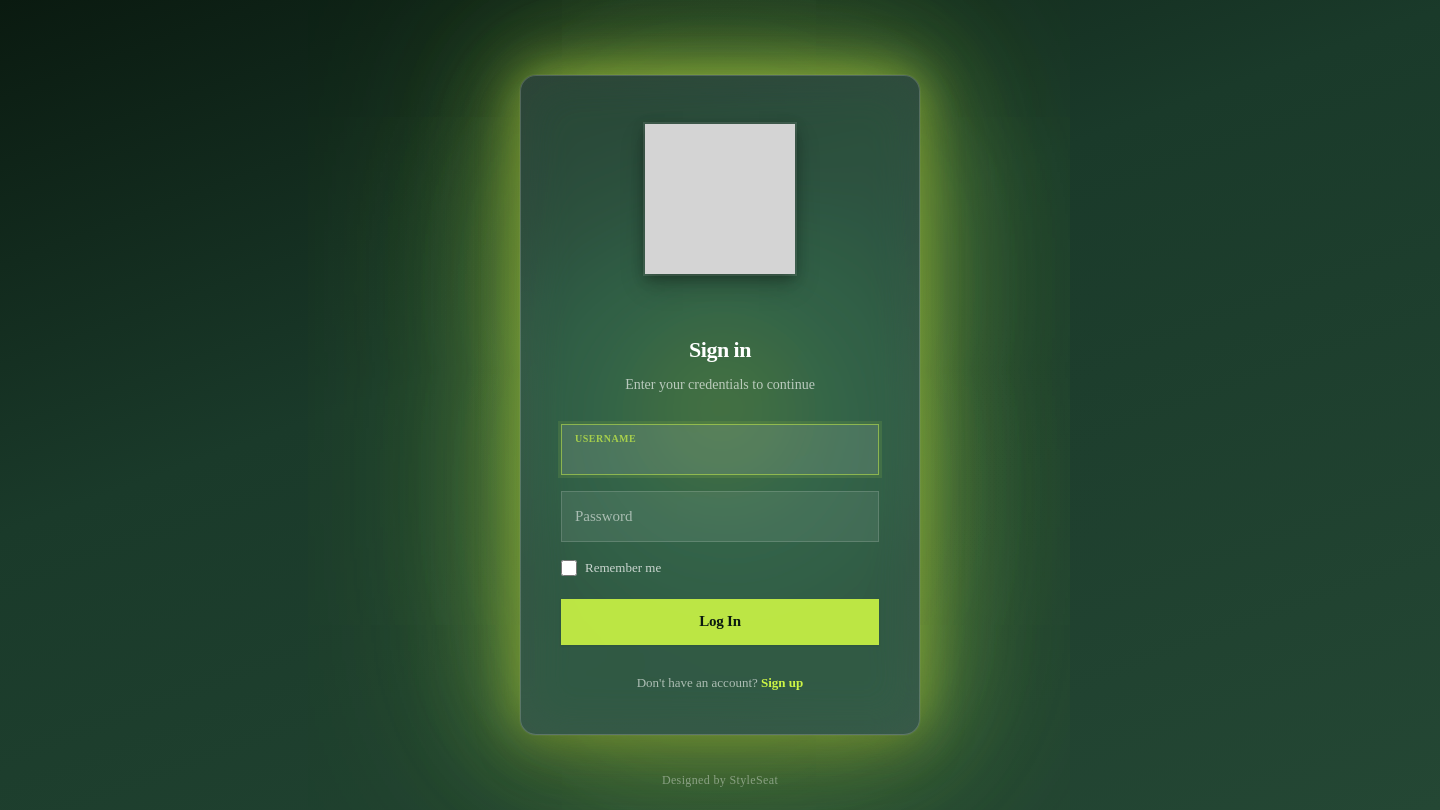
Test: LoginPage › shows loading state while submitting
Type "demo" into the field labelled "Username".
click(720, 450); type("demo")  # box [561,424,879,475]
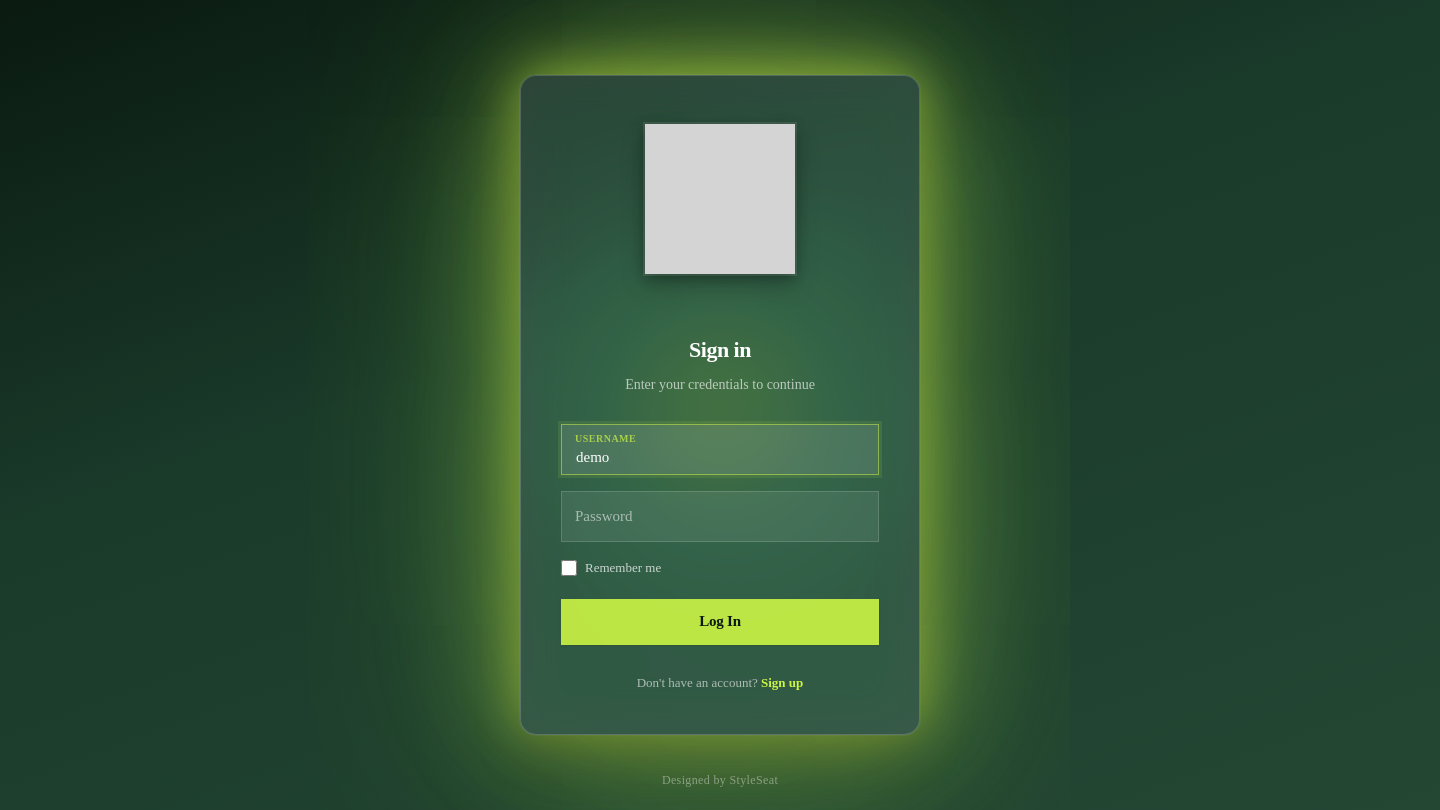
Type "pass" into the password field labelled "Password".
click(720, 516); type("pass")  # box [561,491,879,542]
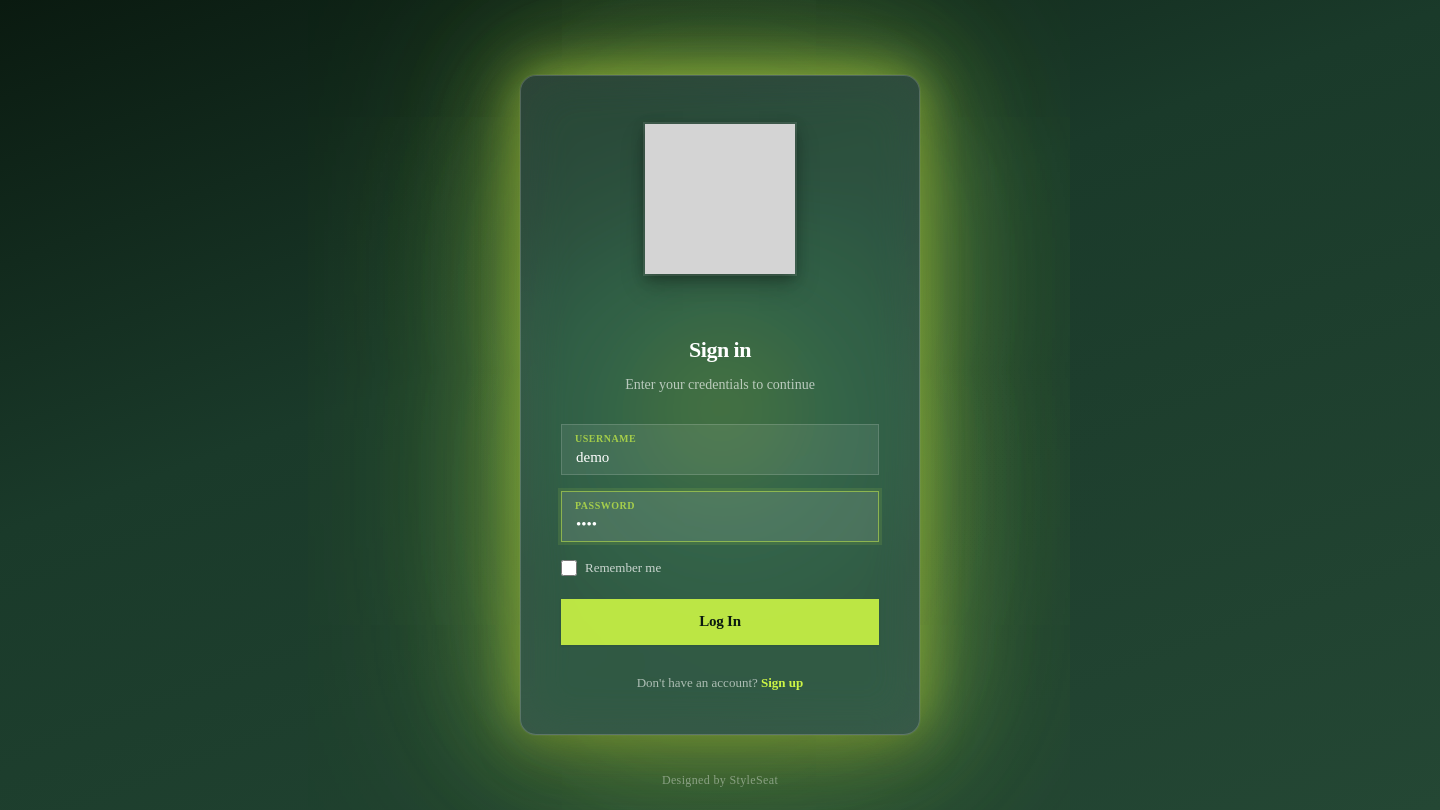
Click the button "Log In".
click(720, 622)  # box [561,599,879,645]
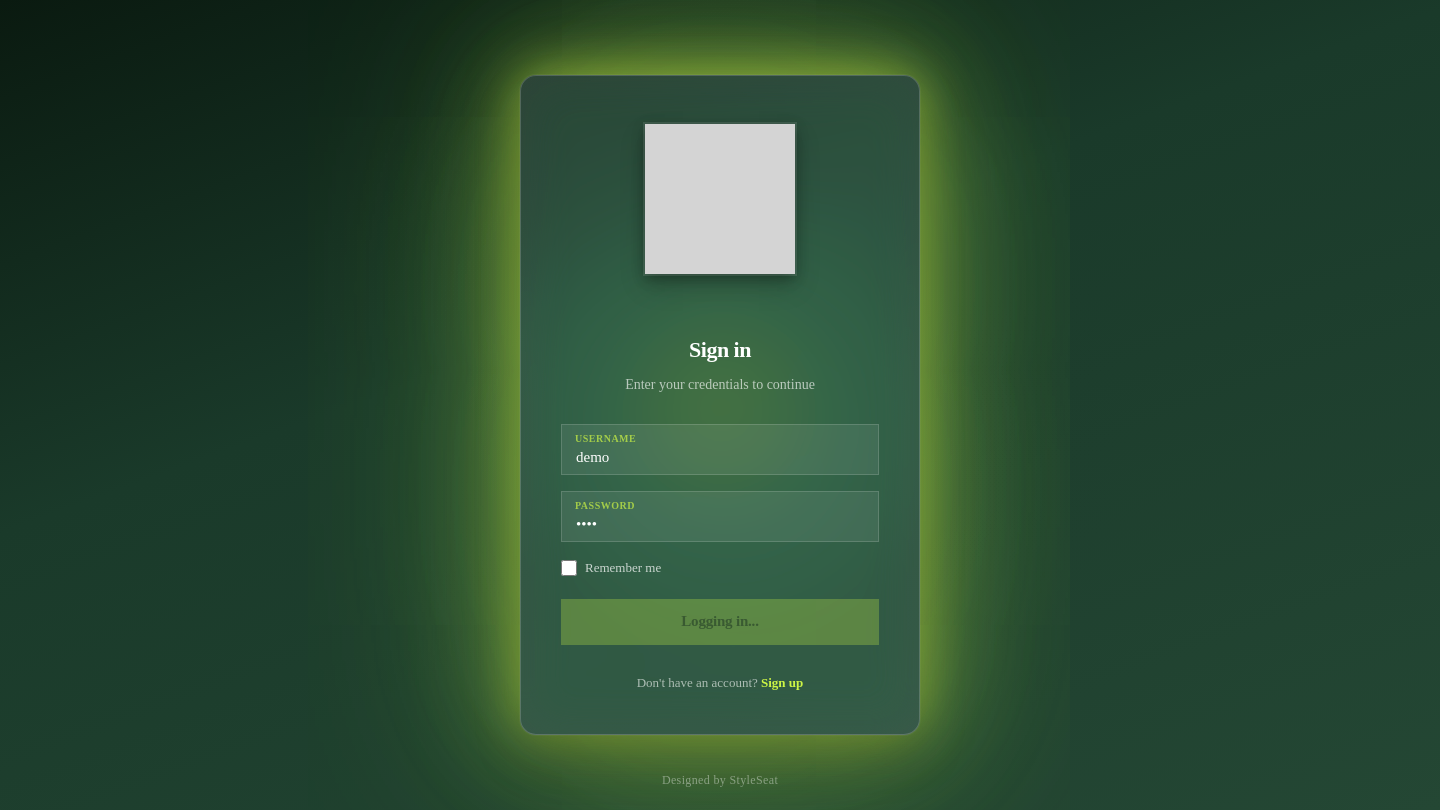
Check: the button "Logging in..." is disabled, box [561,599,879,645]
